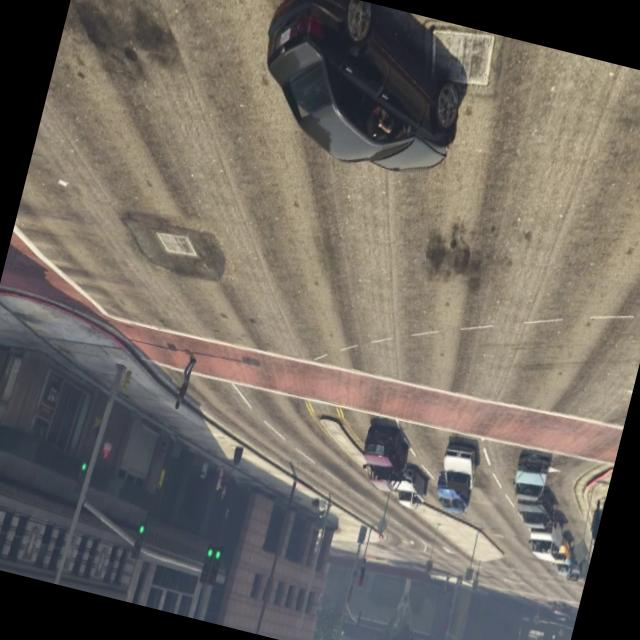Green-Signal: (189, 522, 232, 597), (124, 502, 157, 562), (66, 437, 97, 499)
